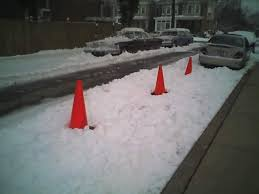cone: (60, 79, 99, 133), (147, 63, 172, 99), (182, 55, 196, 78)
